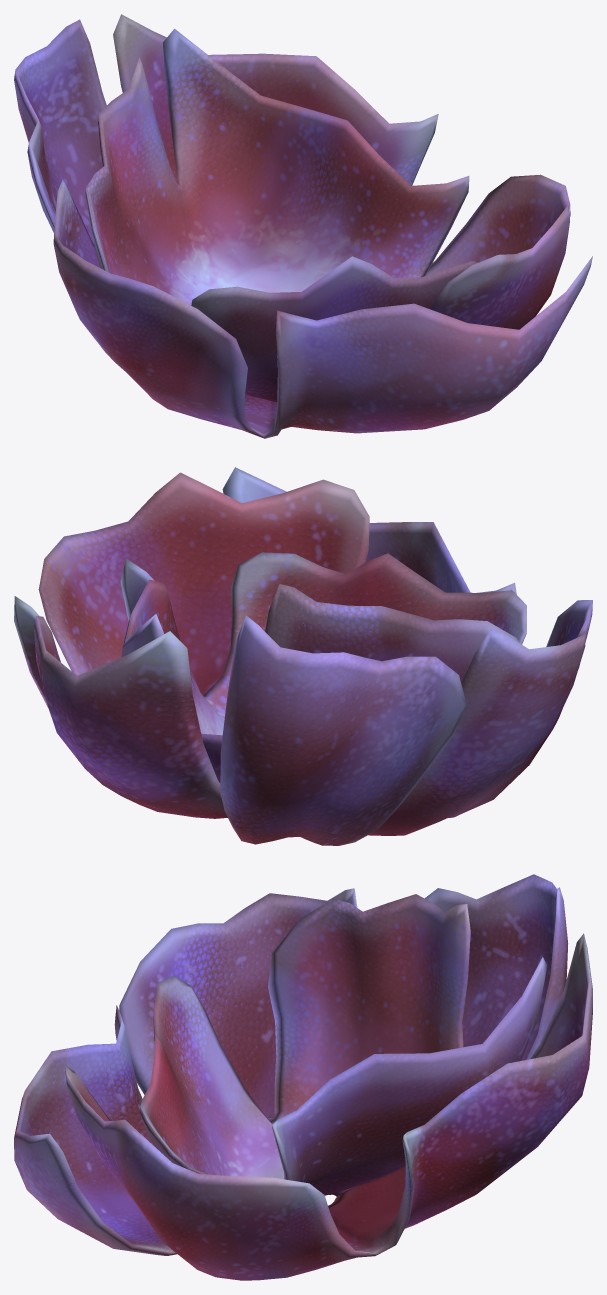
3 views of the same model, one above another, from view 1: azimuth 30°, elevation 25°; view 2: azimuth 150°, elevation 25°; view 3: azimuth 270°, elevation 25° (orthographic). The views are drawn at different scales.
Visible parts, largest first — view 1: Coral_2; view 2: Coral_2; view 3: Coral_2.
Boxes of the visible parts, left/top/right/bottom form: Coral_2: left=14, top=14, right=592, bottom=438; Coral_2: left=14, top=467, right=592, bottom=845; Coral_2: left=14, top=874, right=592, bottom=1280.
Bounding box in the file's own units: 7.48 × 4.31 × 7.7.
